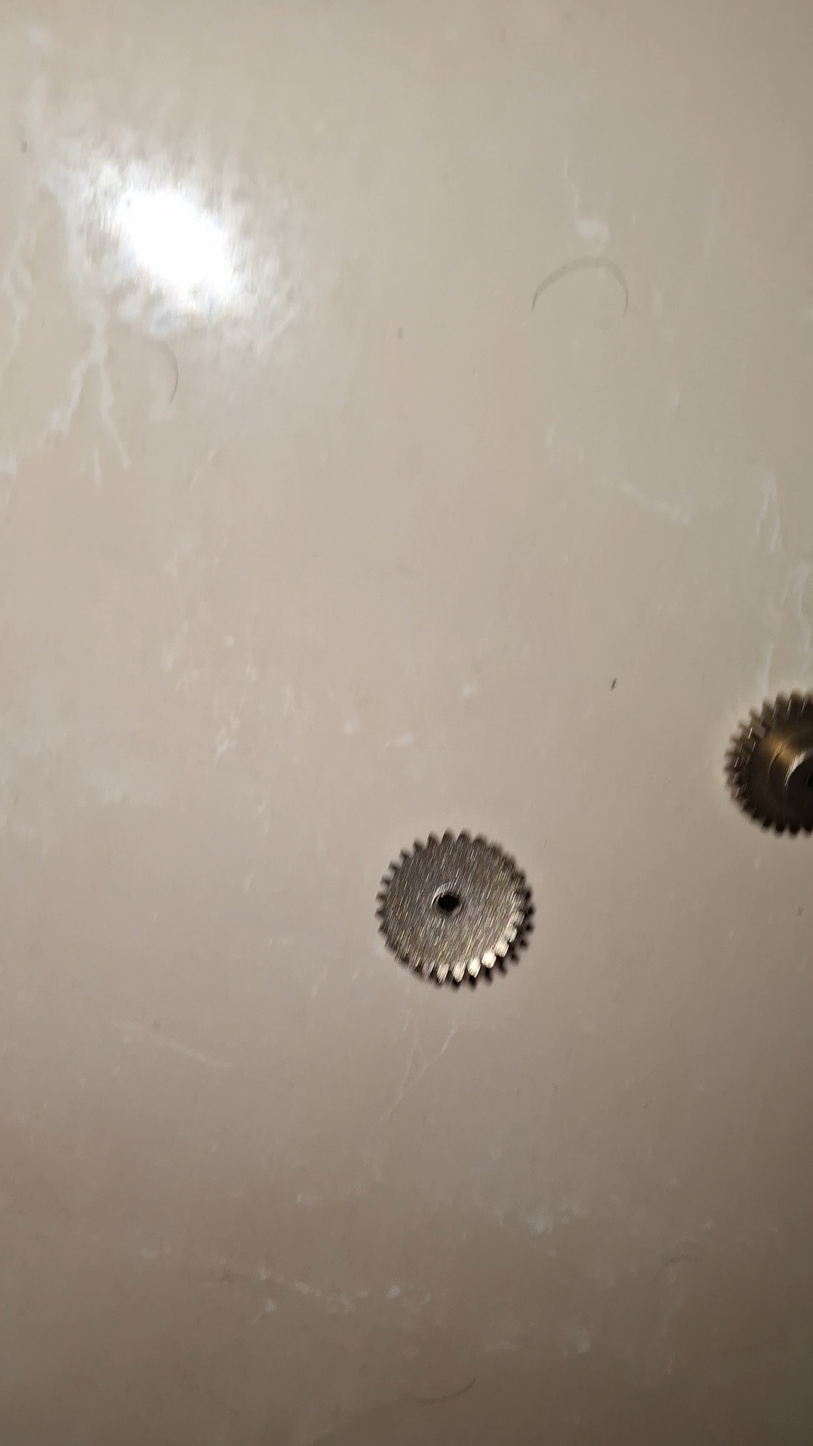spur gear: (377, 832, 531, 983), (726, 692, 813, 833)
